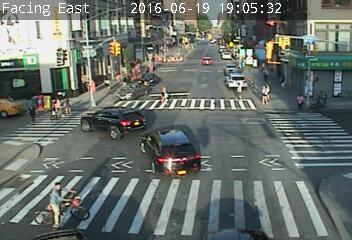neg: (37, 172, 84, 235), (222, 42, 238, 64), (199, 52, 215, 73), (324, 68, 340, 89), (276, 49, 291, 68), (302, 66, 316, 84), (238, 48, 252, 66), (121, 63, 134, 81), (153, 39, 166, 56), (260, 46, 272, 62), (321, 90, 332, 104), (210, 29, 221, 43), (290, 55, 300, 68), (133, 59, 142, 71)
pos: (256, 83, 276, 110), (20, 101, 39, 127), (155, 84, 173, 107), (228, 77, 245, 100), (294, 92, 311, 114), (48, 94, 64, 115), (63, 97, 78, 117), (100, 73, 114, 92), (260, 65, 274, 83), (277, 73, 291, 91)
